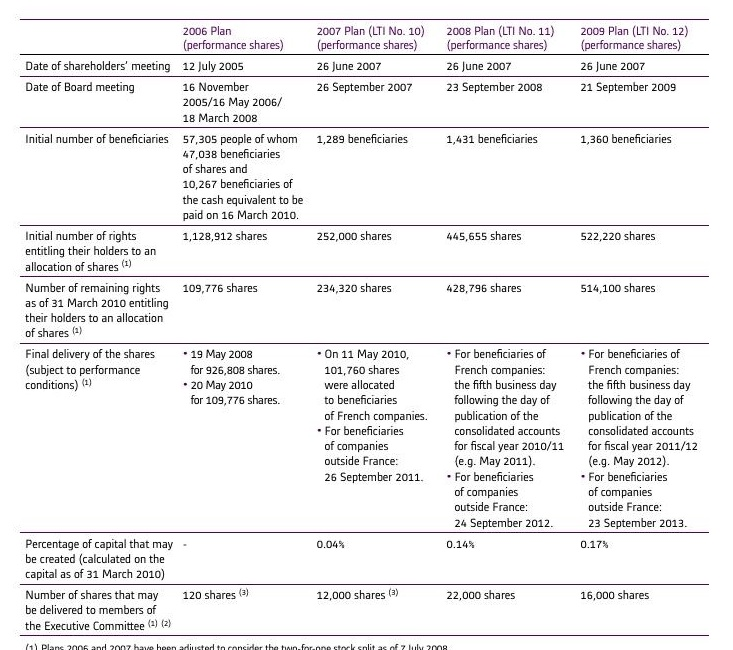table: (0, 0, 733, 650)
